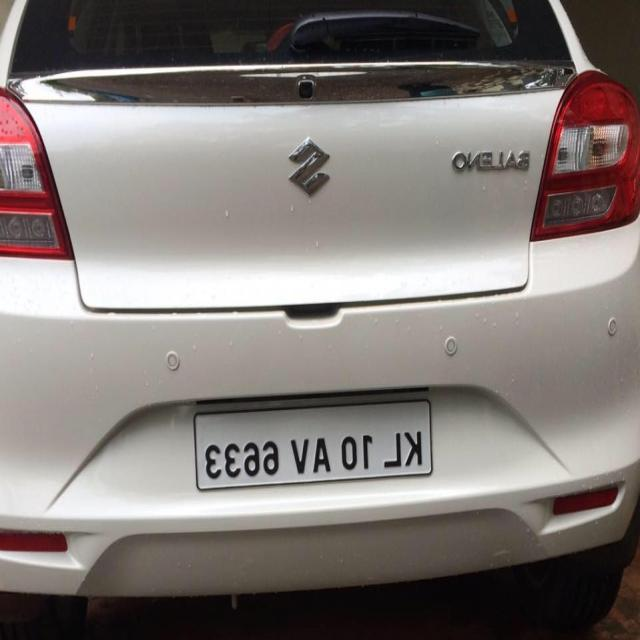number-plate: (197, 396, 431, 491)
